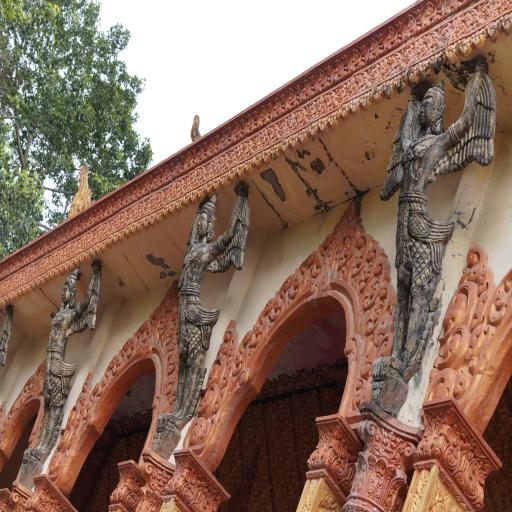la: (428, 242, 496, 418), (201, 320, 239, 428), (361, 247, 393, 309), (346, 228, 374, 286), (311, 228, 339, 285), (289, 248, 318, 302), (364, 282, 394, 334), (337, 218, 361, 279), (494, 254, 512, 328), (230, 328, 255, 380), (357, 240, 380, 294), (269, 268, 295, 315), (332, 197, 365, 234), (253, 296, 276, 346), (371, 311, 393, 345), (361, 334, 375, 378), (374, 332, 396, 359), (353, 379, 370, 409)
ran: (66, 162, 98, 225), (187, 112, 202, 140)
than: (362, 55, 508, 434), (131, 192, 262, 462), (19, 268, 111, 472), (0, 298, 18, 382)
